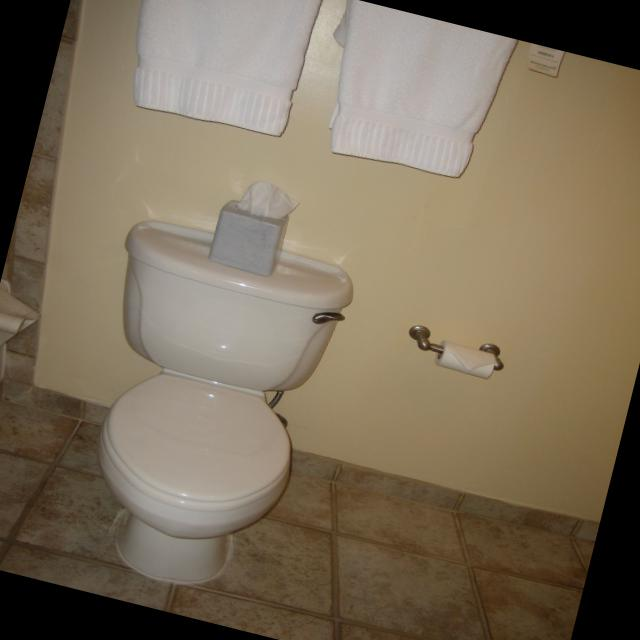floor -X: (0, 399, 594, 640)
tissue paper: (209, 183, 300, 275)
toilet paper: (434, 340, 493, 380)
towel basket: (330, 2, 515, 180), (131, 0, 321, 136)
wall clock: (2, 0, 640, 541)
